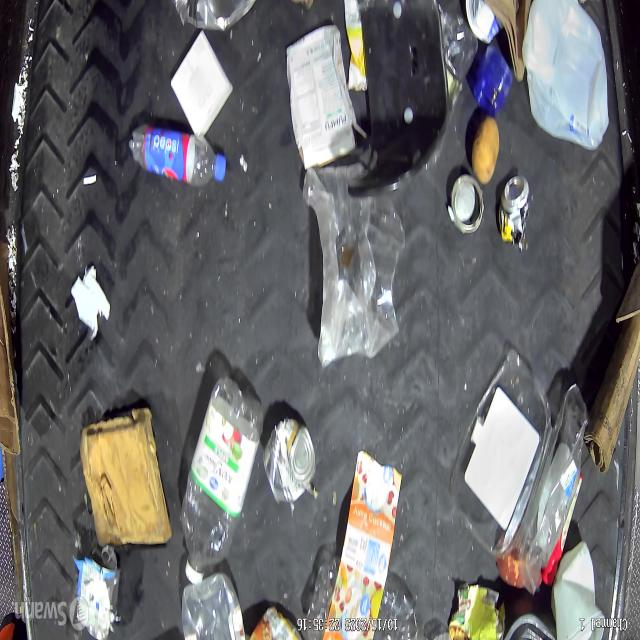can: (262, 418, 317, 506), (498, 175, 531, 253), (446, 172, 484, 236)
milk_jug: (524, 2, 608, 152)
plastic_bottle: (178, 375, 259, 584), (305, 559, 420, 640), (126, 120, 227, 188), (181, 572, 245, 640), (77, 545, 121, 640)
